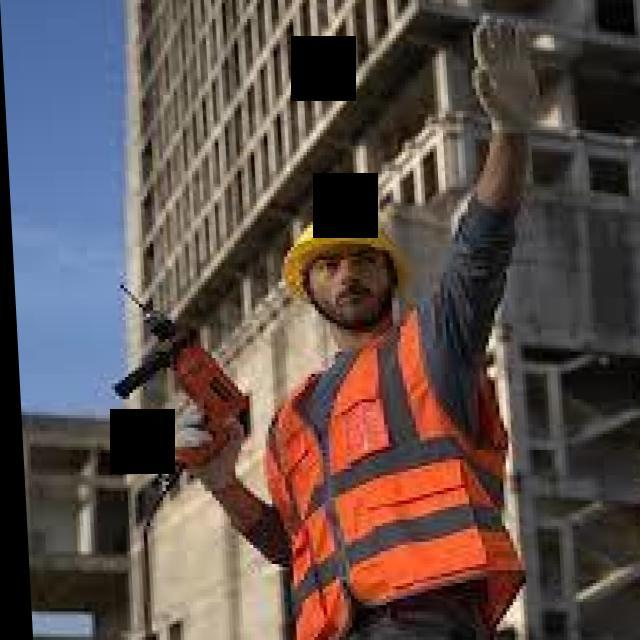safety_helmet: (280, 169, 414, 330)
